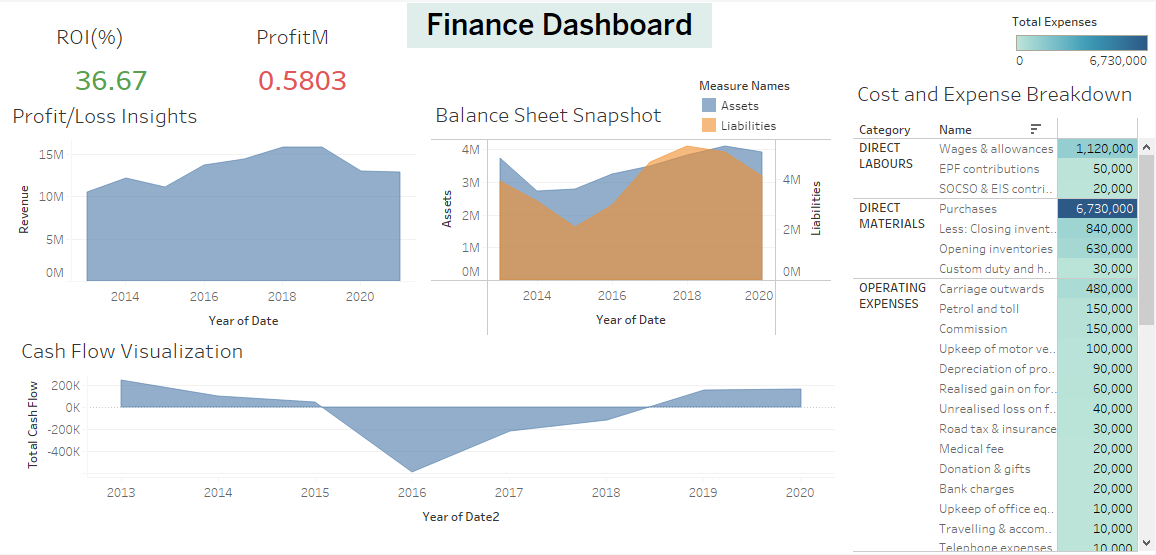

The dashboard page shown, as its layout file describes it:
{"tool":"tableau","page":{"name":"Finance Dashboard","canvas":[1000,1000],"units":"permille","ordinal":0},"visuals":[{"type":"text","box":[352.4,1.8,264.1,81.5]},{"type":"legend","title":"Cost and Expense Breakdown","param":"[federated.0wm88sf1vparoh1awncqv1oxvzrk].[sum:Calculation_345932812917751814:qk]","box":[876.2,19.9,121.2,137.7]},{"type":"worksheet","title":"ROI(%)","mark":"Automatic","box":[41.6,21.7,173.2,173.9]},{"type":"worksheet","title":"Profit Margin(%)","mark":"Automatic","box":[214.7,21.7,172.3,173.9]},{"type":"legend","title":"Balance Sheet Snapshot","param":"[federated.0bf4a4k11pp2ga19vkz7w1lcnupu].[:Measure Names]","box":[605.2,135.9,121.2,105.1]},{"type":"worksheet","title":"Balance Sheet Snapshot","mark":"Area","rows":["Amount","Amount"],"cols":["Date"],"box":[373.2,170.3,347.2,434.8]},{"type":"worksheet","title":"Profit/Loss Insights","mark":"Area","rows":["Amount"],"cols":["Date"],"box":[6.9,172.1,353.2,433]},{"type":"worksheet","title":"Cash Flow Visualization","mark":"Area","rows":["Total Cash Flow"],"cols":["Date2"],"box":[14.7,597.8,708.2,362.3]}]}

Visuals, with their boxes on the dashboard's canvas, which has no fixed pixel size, in thousandths of its width and height (x1, y1, x2, y2). These are canvas units, not pixel positions in the 1156x555 screenshot, which may show the page scaled, cropped or inside an application window:
text: 352 2 616 83
"Cost and Expense Breakdown" legend: 876 20 997 158
"ROI(%)" worksheet: 42 22 215 196
"Profit Margin(%)" worksheet: 215 22 387 196
"Balance Sheet Snapshot" legend: 605 136 726 241
"Balance Sheet Snapshot" worksheet (Area marks): 373 170 720 605
"Profit/Loss Insights" worksheet (Area marks): 7 172 360 605
"Cash Flow Visualization" worksheet (Area marks): 15 598 723 960
